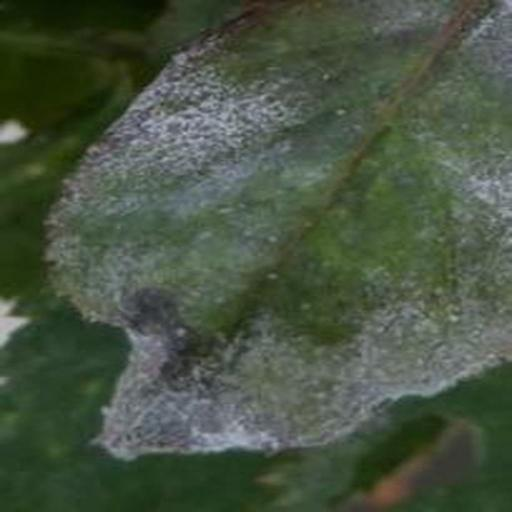powdery_mildew: (48, 0, 512, 458)
